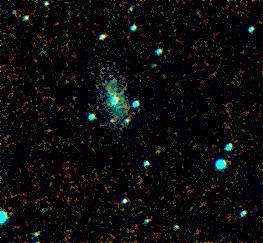star: (95, 106, 125, 136)
